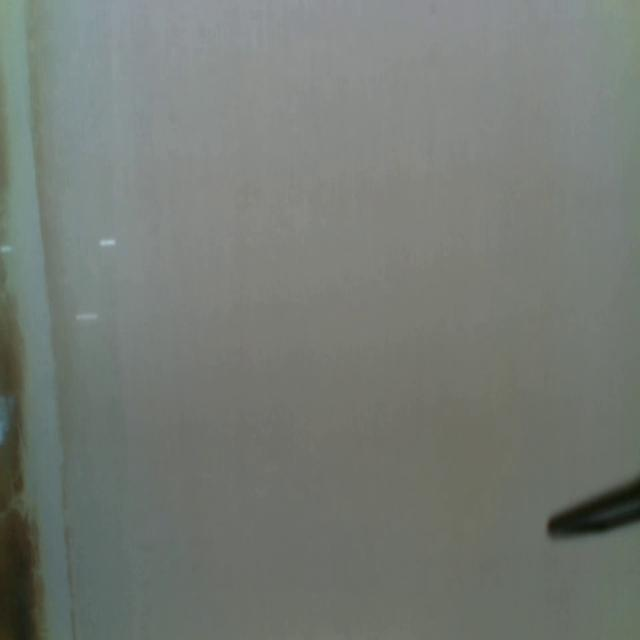color bleeding: (0, 0, 75, 638)
